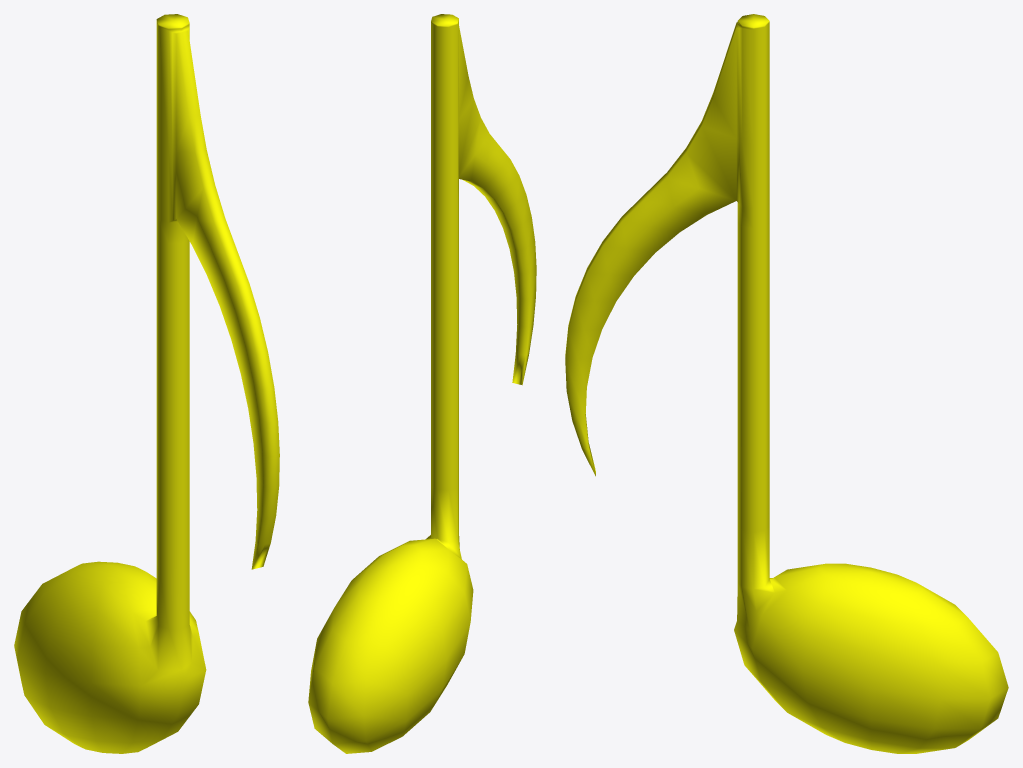
File: YellowNote.obj
3 views of the same model, side by side, from view 1: azimuth 30°, elevation 25°; view 2: azimuth 150°, elevation 25°; view 3: azimuth 270°, elevation 25° (orthographic). The views are drawn at different scales.
Visible parts, largest first — view 1: MusicNote:Mesh; view 2: MusicNote:Mesh; view 3: MusicNote:Mesh.
Boxes of the visible parts, x1,y1,x2,y2 form: MusicNote:Mesh: [14, 14, 279, 753]; MusicNote:Mesh: [308, 14, 536, 753]; MusicNote:Mesh: [565, 14, 1008, 753].
Size of the model in its own units: 0.022 by 0.1265 by 0.0697.
